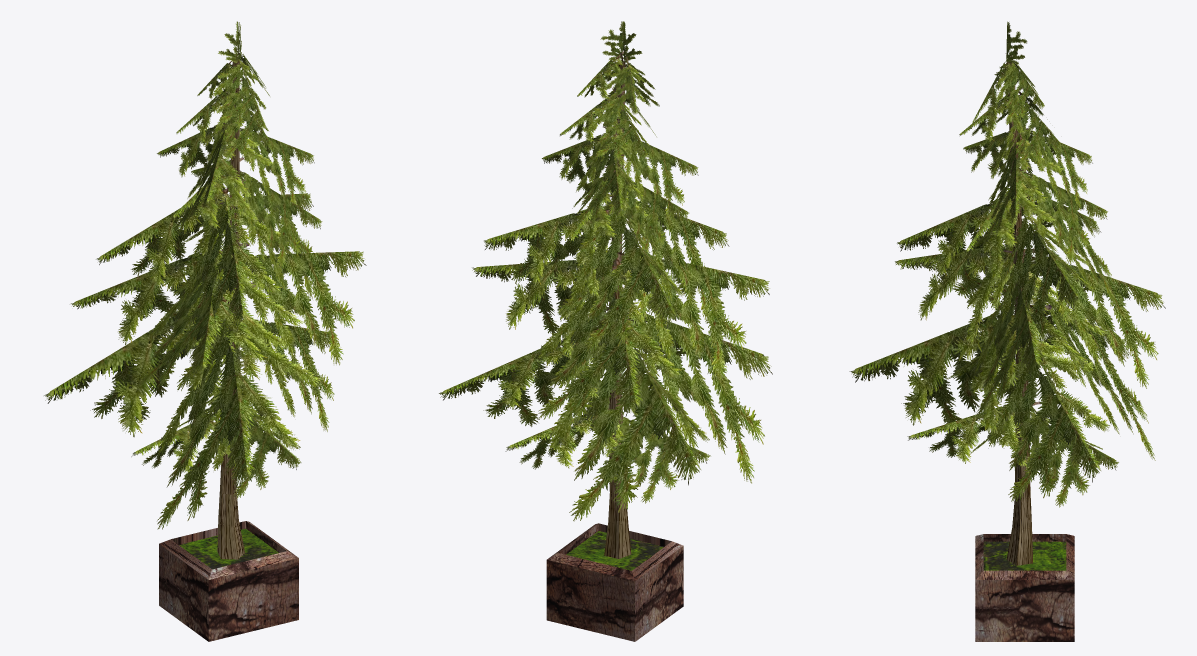
Rendered from potted_tree.obj.
3 views of the same model, side by side, from view 1: azimuth 30°, elevation 25°; view 2: azimuth 150°, elevation 25°; view 3: azimuth 270°, elevation 25° (orthographic). The views are drawn at different scales.
Parts seen in each view (by area): view 1: Tree_Pine_T2, Cube; view 2: Tree_Pine_T2, Cube; view 3: Tree_Pine_T2, Cube.
Part boxes in pixels (x1,y1,x2,y2): Tree_Pine_T2: (44, 21, 366, 559); Cube: (159, 521, 298, 641); Tree_Pine_T2: (439, 21, 772, 559); Cube: (546, 523, 683, 641); Tree_Pine_T2: (849, 21, 1165, 565); Cube: (975, 534, 1074, 641).
Size of the model in its own units: 9.97 by 17.92 by 9.67.
